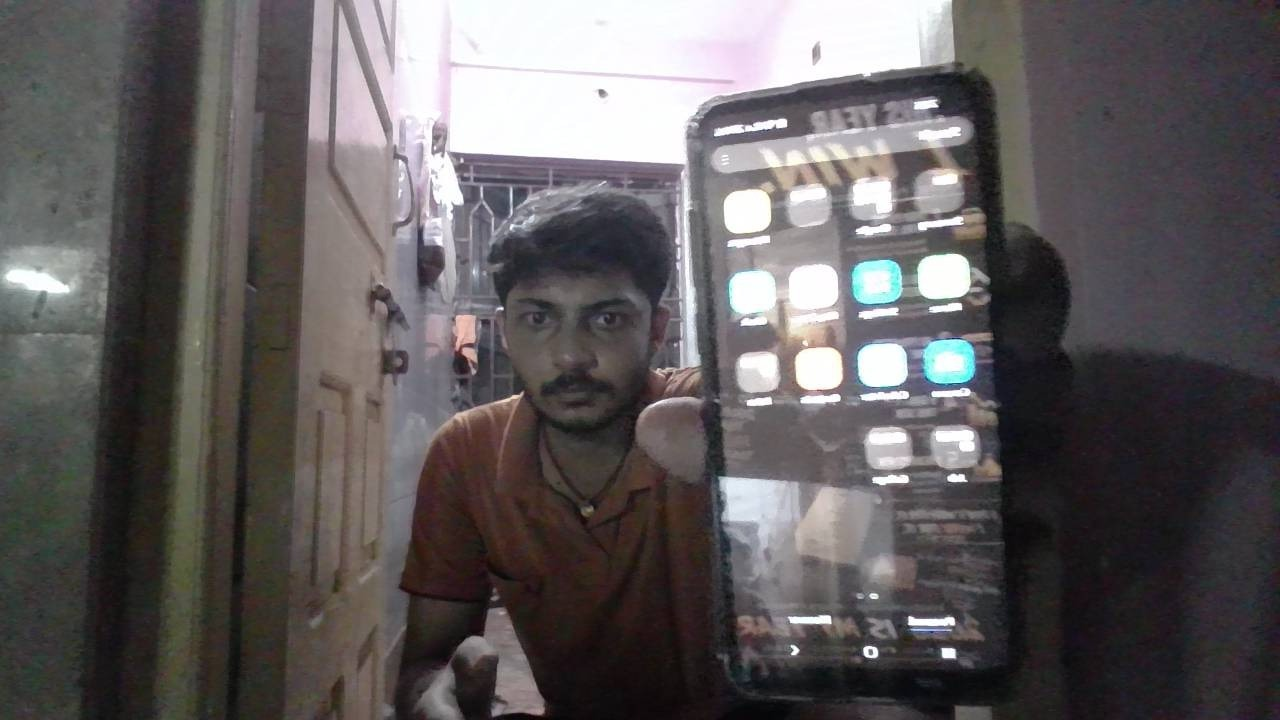red_box: (416, 420, 546, 560)
